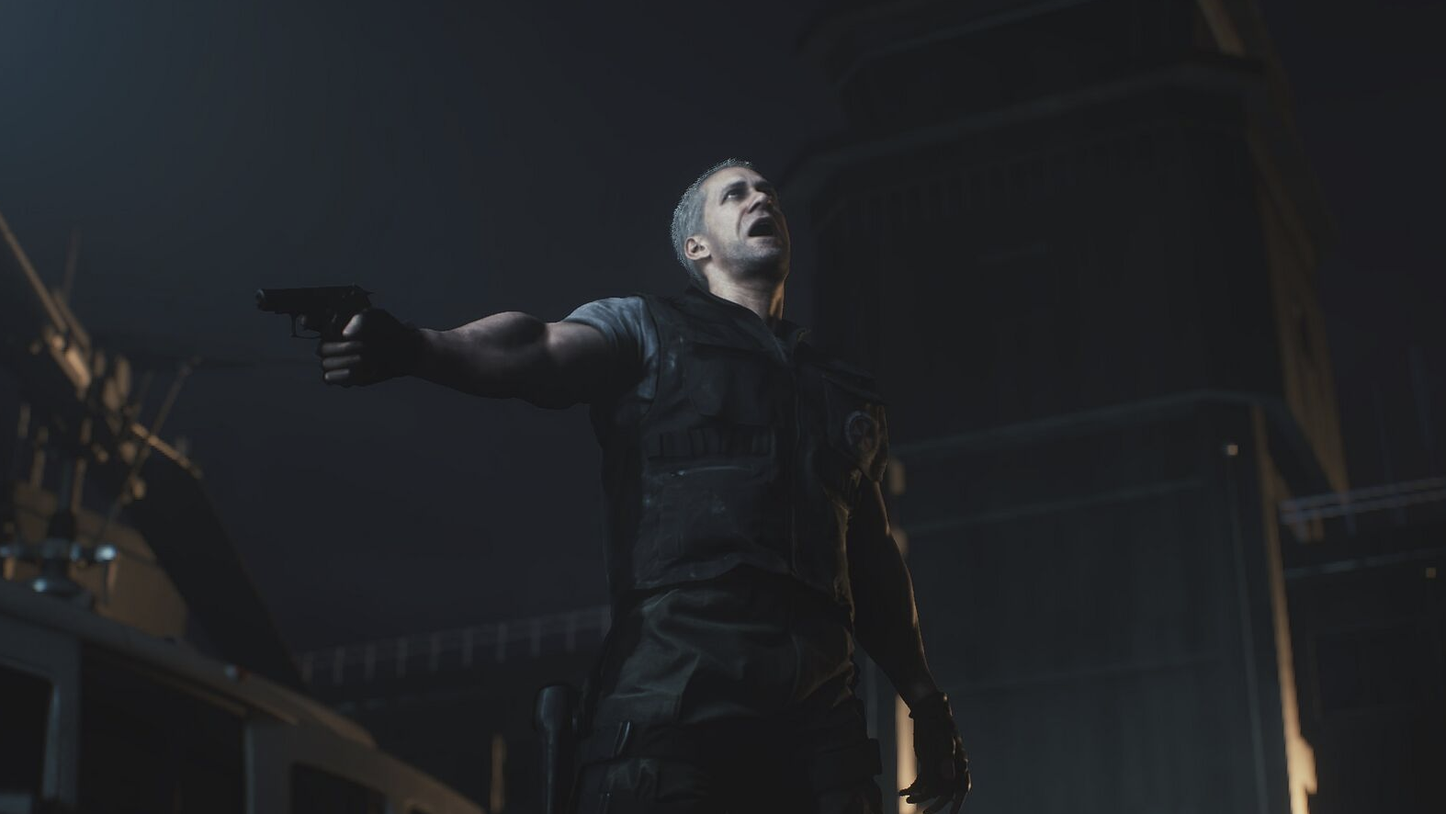gun_016: (243, 274, 383, 393)
